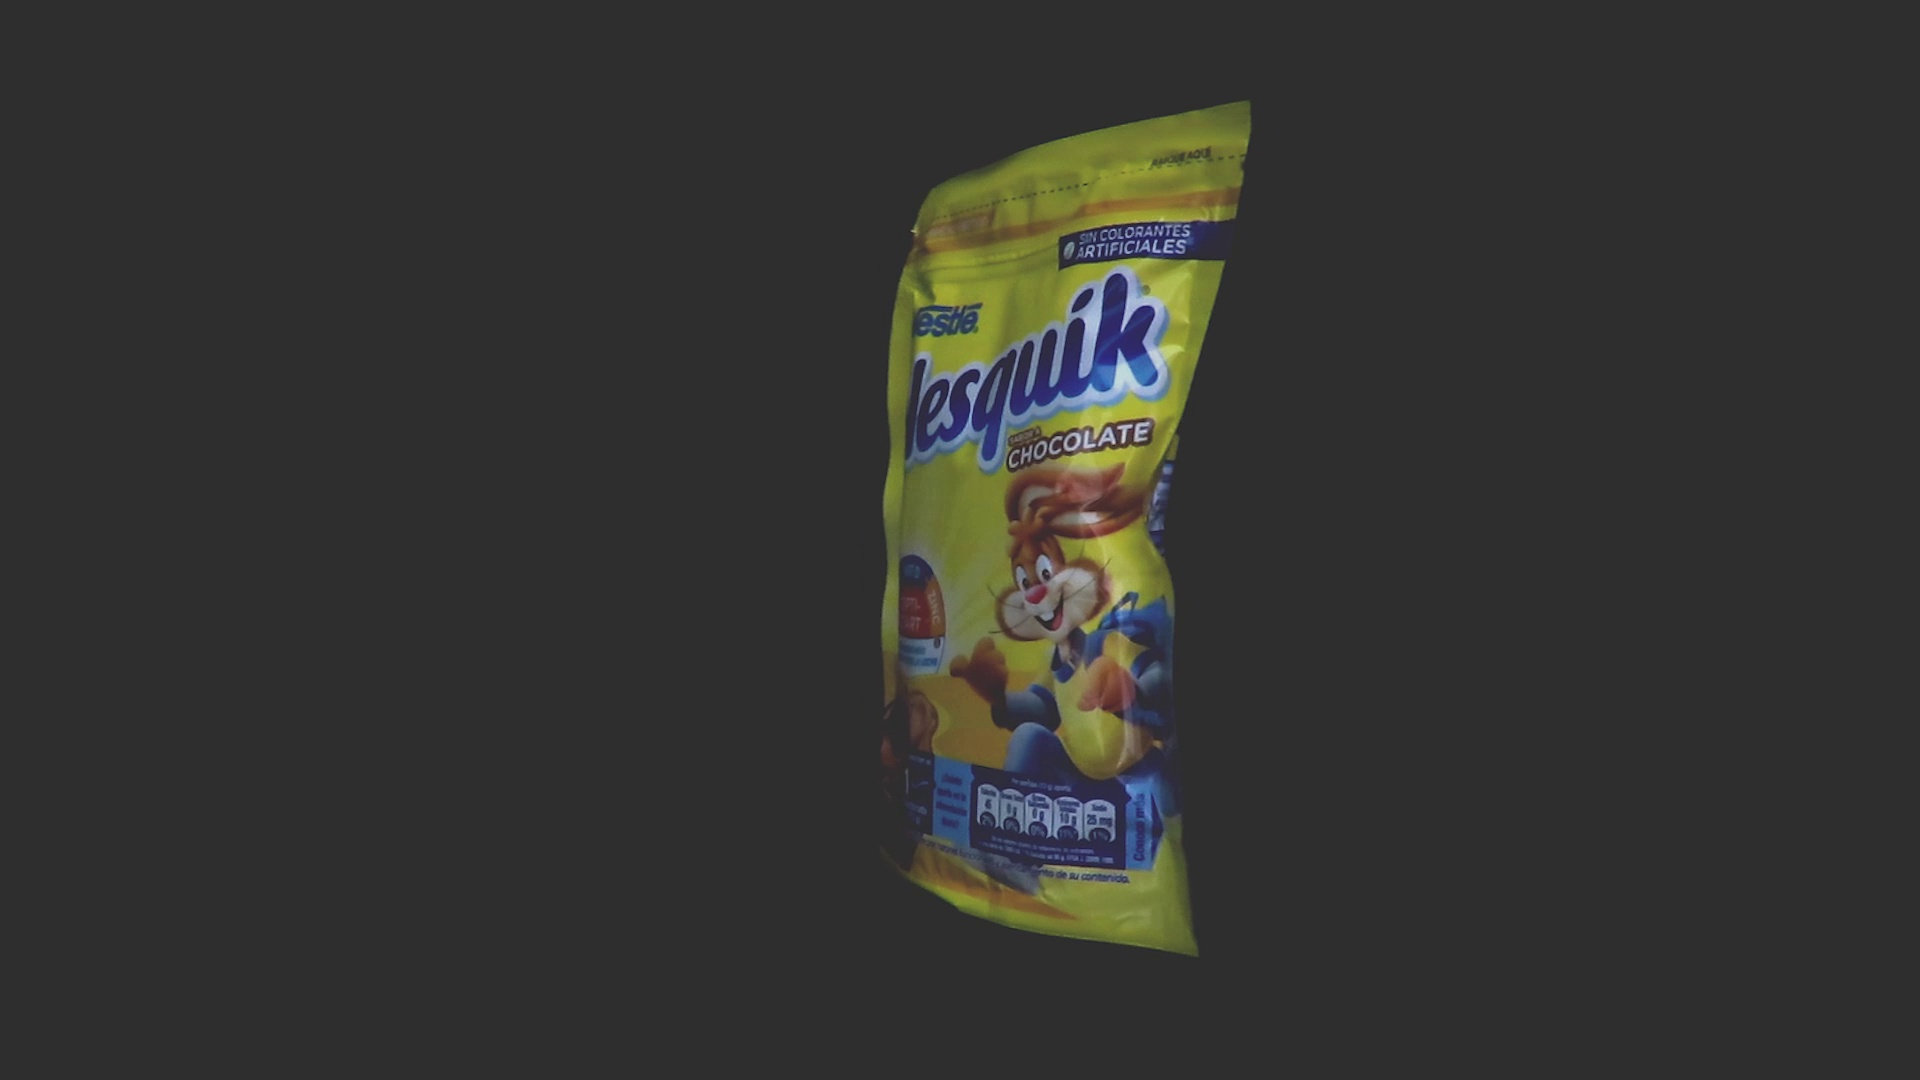COL0170303DYP20000: (876, 95, 1257, 919)
